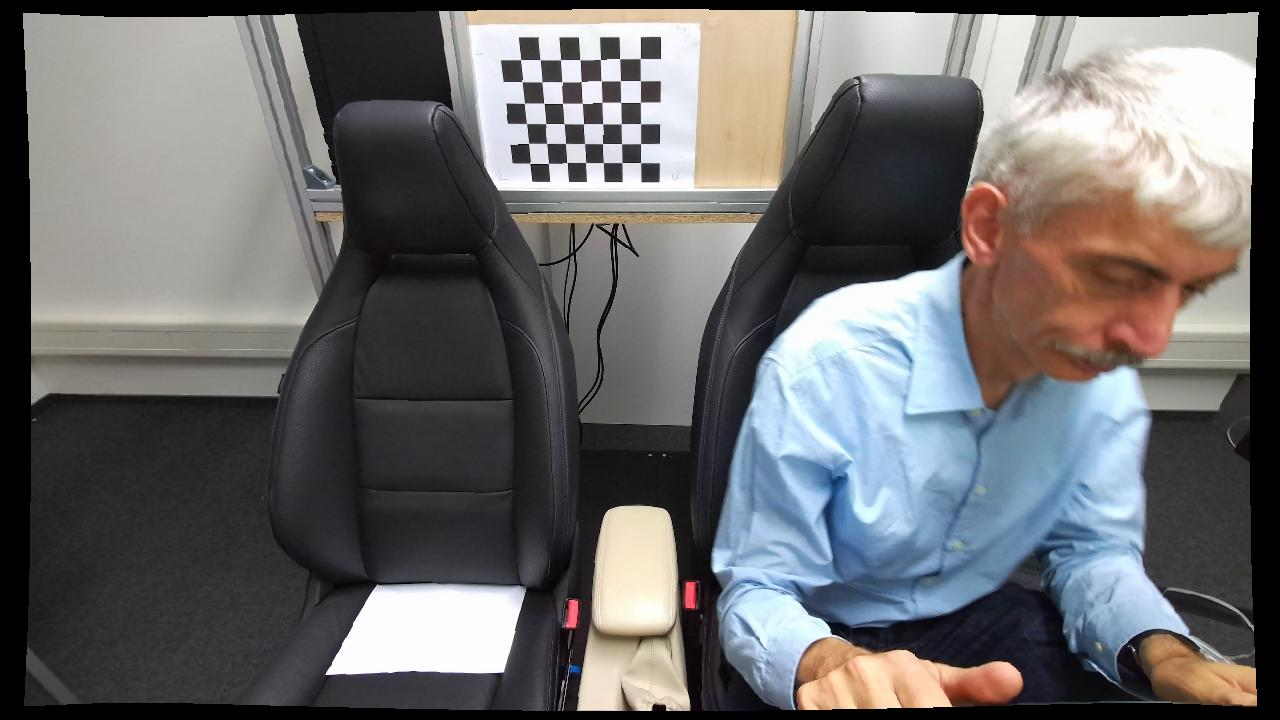Distracted: (711, 46, 1261, 710)
